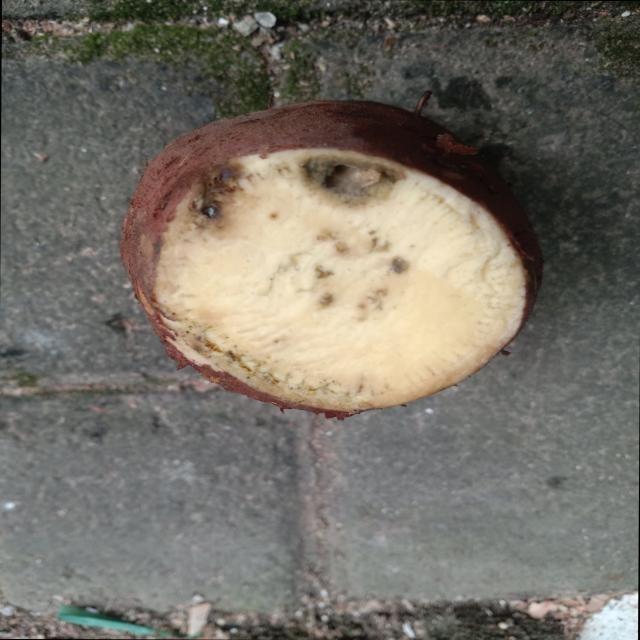Sick Sweet Potato_Tuber Rot: (153, 150, 527, 412)
